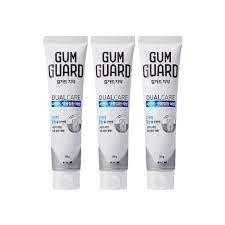toothpaste: (136, 33, 184, 190), (41, 32, 86, 190), (88, 31, 130, 193)
